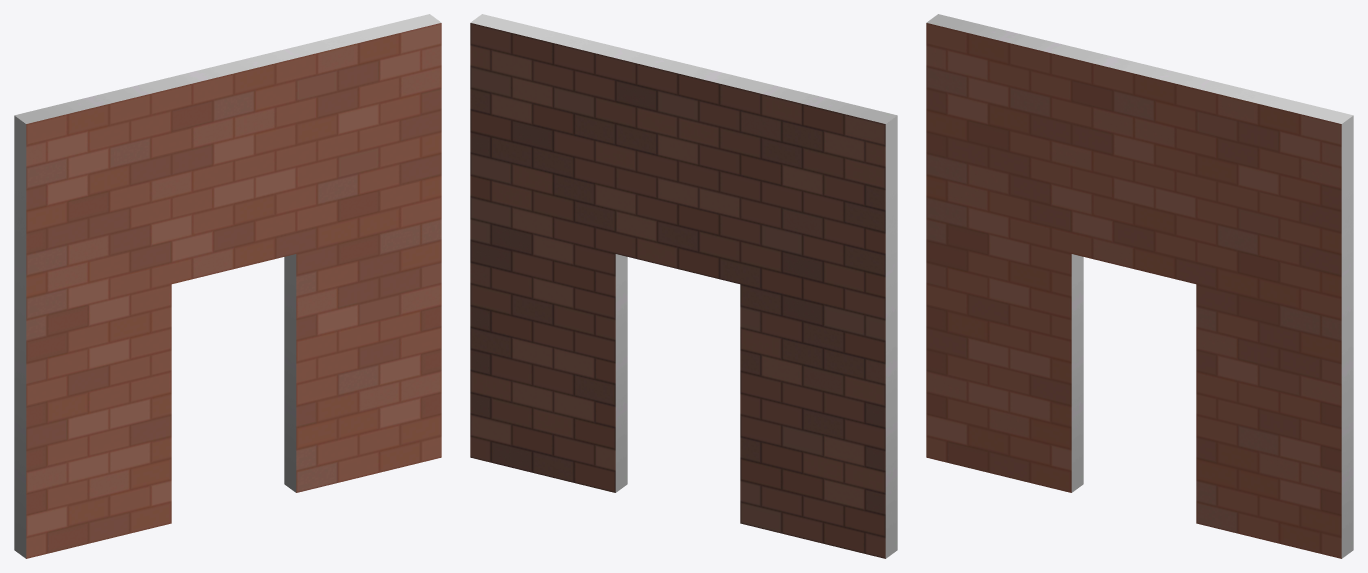
File: Wall_02.glb
3 views of the same model, side by side, from view 1: azimuth 30°, elevation 25°; view 2: azimuth 150°, elevation 25°; view 3: azimuth 330°, elevation 25° (orthographic).
Parts seen in each view (by area): view 1: Wall_02; view 2: Wall_02; view 3: Wall_02.
Part boxes in pixels (x1,y1,x2,y2): Wall_02: (14,14,441,558); Wall_02: (470,14,897,558); Wall_02: (926,14,1353,558).
Size of the model in its own units: 4 by 4 by 0.2.
3 materials, 3 textured.
